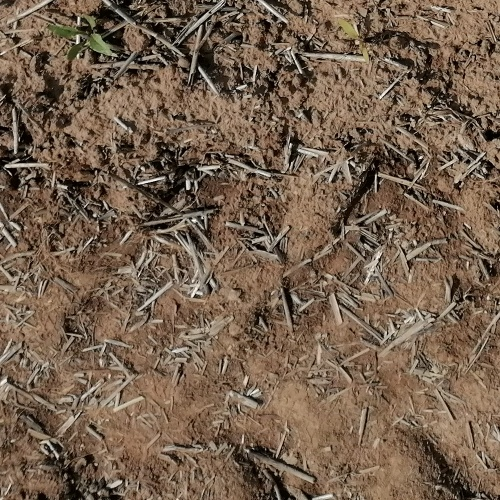beet: (47, 17, 116, 56), (337, 20, 370, 62)
